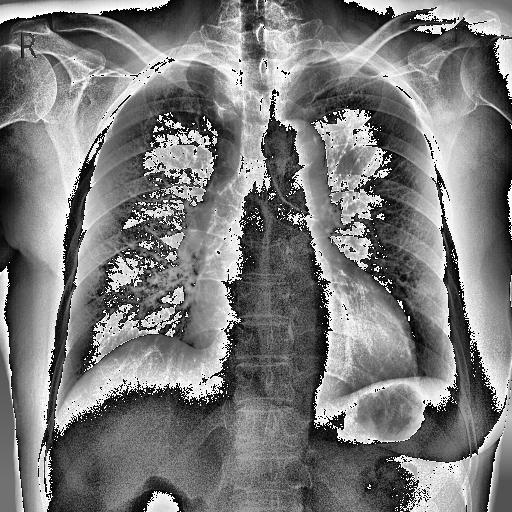0- Aortic enlargement: (262, 118, 328, 200), (270, 124, 330, 200), (264, 123, 328, 184)
11- Pleural thickening: (212, 62, 244, 124)
2- Calcification: (309, 134, 319, 148)
3- Cardiomegaly: (188, 279, 418, 387), (190, 294, 420, 392), (191, 292, 418, 391)
5- ILD: (76, 228, 199, 350)
